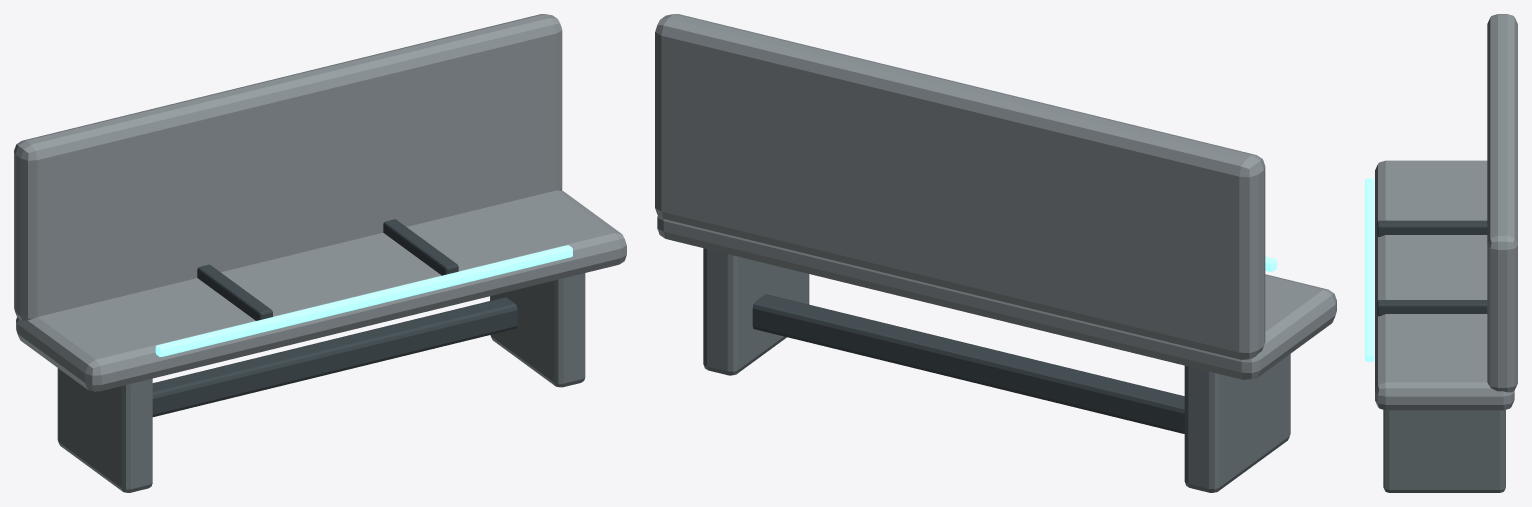
File: FacilityBench_A.fbx
The picture shows the model from 3 angles, left to right: view 1: azimuth 30°, elevation 25°; view 2: azimuth 150°, elevation 25°; view 3: azimuth 270°, elevation 25°; orthographic projection. The views are drawn at different scales.
Visible parts, largest first — view 1: Bench Back, Bench Seat, Bench Lower Brace, Bench Left Support, Bench Right Support, Bench Status Light, Bench Seat Divider.001, Bench Seat Divider; view 2: Bench Back, Bench Seat, Bench Lower Brace, Bench Left Support, Bench Right Support; view 3: Bench Seat, Bench Back, Bench Right Support, Bench Status Light, Bench Seat Divider, Bench Seat Divider.001.
Boxes of the visible parts, bbox=[...] form: Bench Back: bbox=[14, 14, 562, 320]; Bench Seat: bbox=[16, 190, 626, 391]; Bench Lower Brace: bbox=[152, 297, 517, 416]; Bench Left Support: bbox=[57, 368, 152, 492]; Bench Right Support: bbox=[490, 273, 585, 387]; Bench Status Light: bbox=[155, 245, 572, 356]; Bench Seat Divider.001: bbox=[383, 219, 458, 275]; Bench Seat Divider: bbox=[197, 264, 272, 320]; Bench Back: bbox=[655, 14, 1265, 359]; Bench Seat: bbox=[657, 215, 1336, 379]; Bench Lower Brace: bbox=[752, 294, 1184, 433]; Bench Left Support: bbox=[1184, 354, 1290, 492]; Bench Right Support: bbox=[703, 248, 809, 375]; Bench Seat: bbox=[1375, 160, 1514, 410]; Bench Back: bbox=[1487, 14, 1517, 392]; Bench Right Support: bbox=[1383, 410, 1505, 492]; Bench Status Light: bbox=[1365, 178, 1374, 361]; Bench Seat Divider: bbox=[1377, 220, 1487, 236]; Bench Seat Divider.001: bbox=[1377, 300, 1487, 316].
Bounding box in the file's own units: 3.2 × 1.76 × 0.8975.
